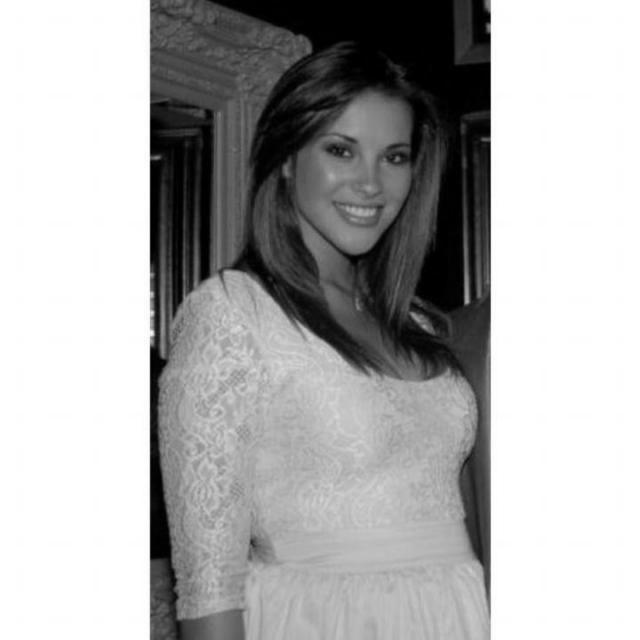real: (291, 106, 415, 258)
